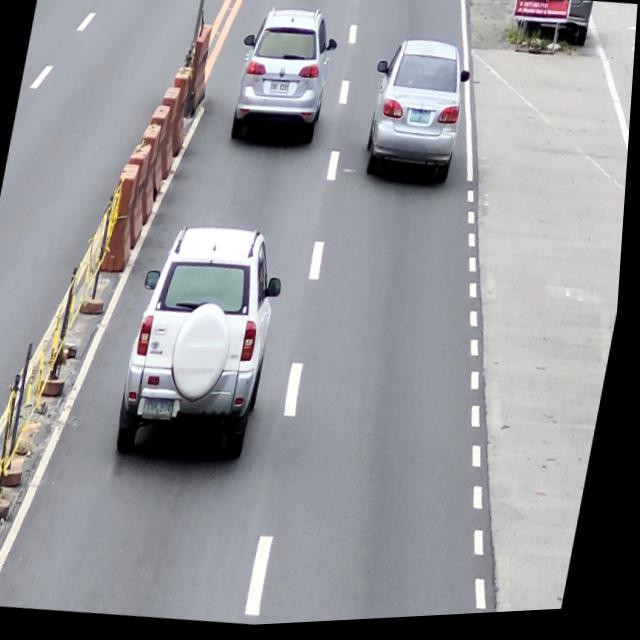Car: (117, 220, 295, 471), (360, 35, 477, 192), (227, 3, 343, 153)
License-Plate: (146, 400, 180, 424), (410, 113, 434, 129), (270, 80, 292, 96)
